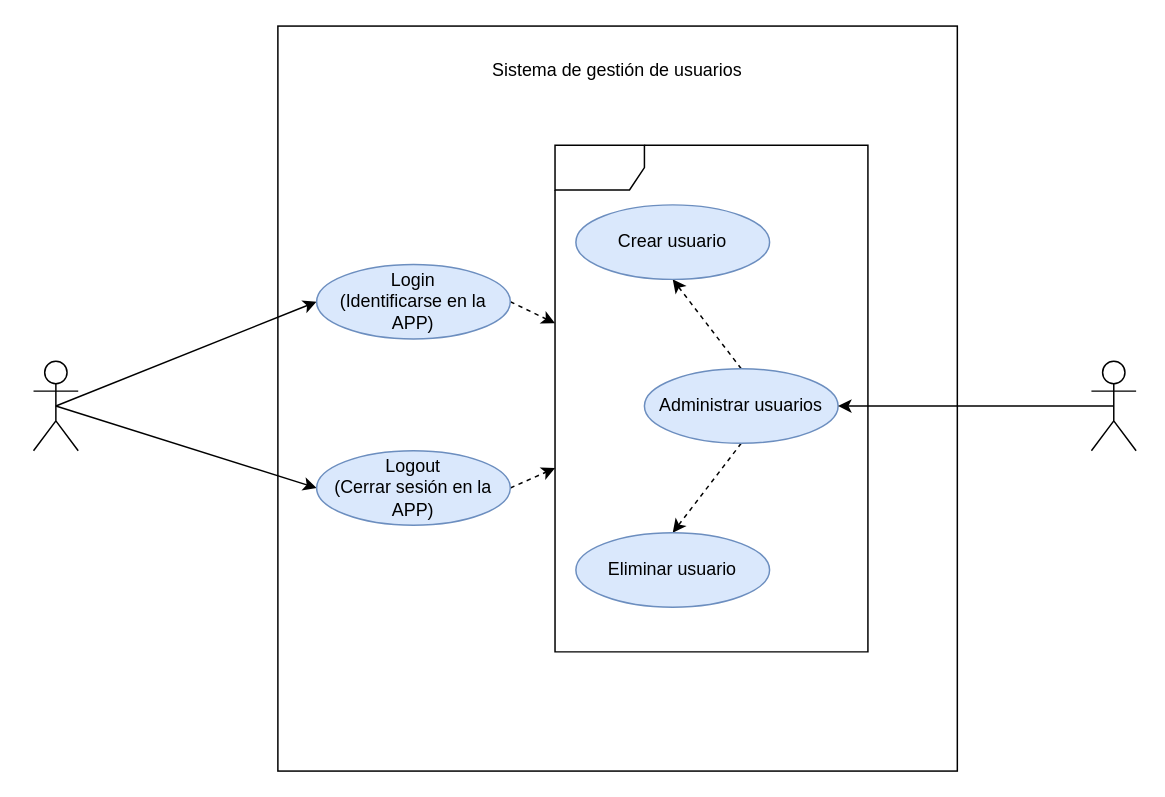
Image size: 1165x797. Some labels were removed from this diagram. Each missing label, with the centre of its shape:
"Admin" belongs at [1113,405].
"Django" belongs at [711,398].
"Usuario" belongs at [55,405].
